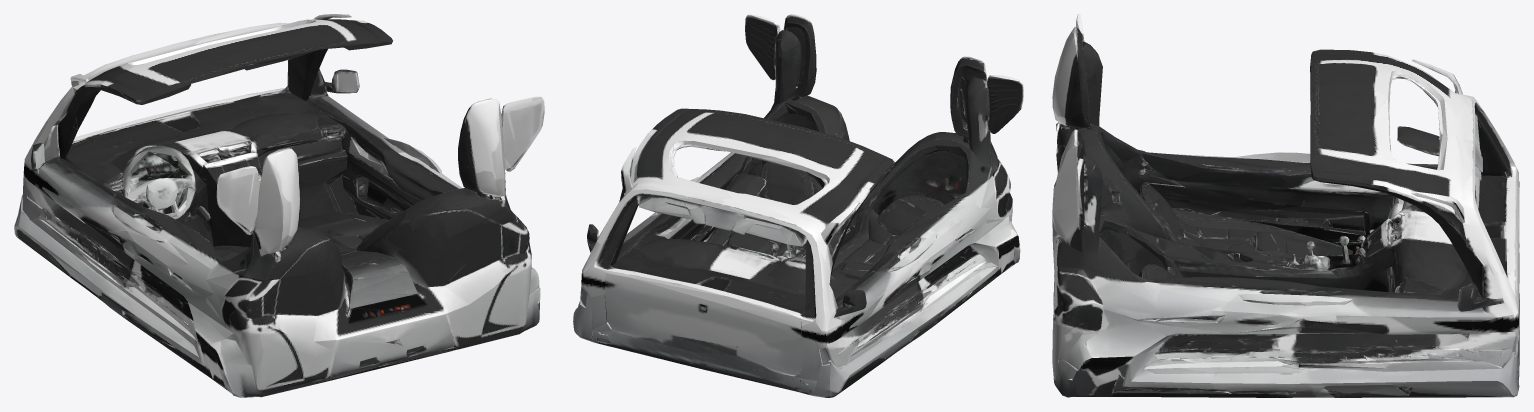
3 renders of one model, left to right at view 1: azimuth 30°, elevation 25°; view 2: azimuth 150°, elevation 25°; view 3: azimuth 270°, elevation 25°, orthographic. The views are drawn at different scales.
Size of the model in its own units: 1.58 by 1.09 by 1.9.
Materials: 1 (1 with a texture image).
